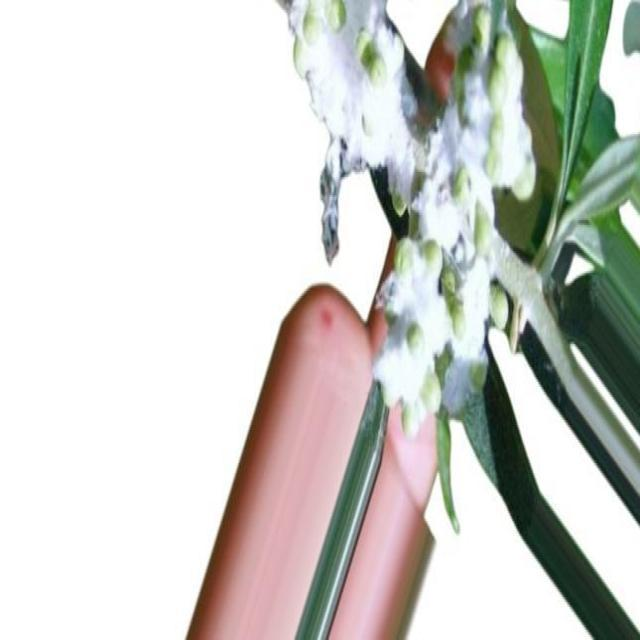Psyllid: (374, 0, 536, 432), (285, 0, 419, 243)
